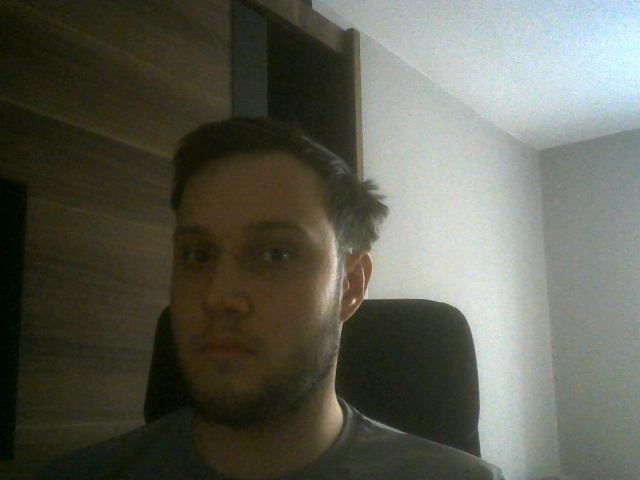neutral: (165, 117, 374, 424)
